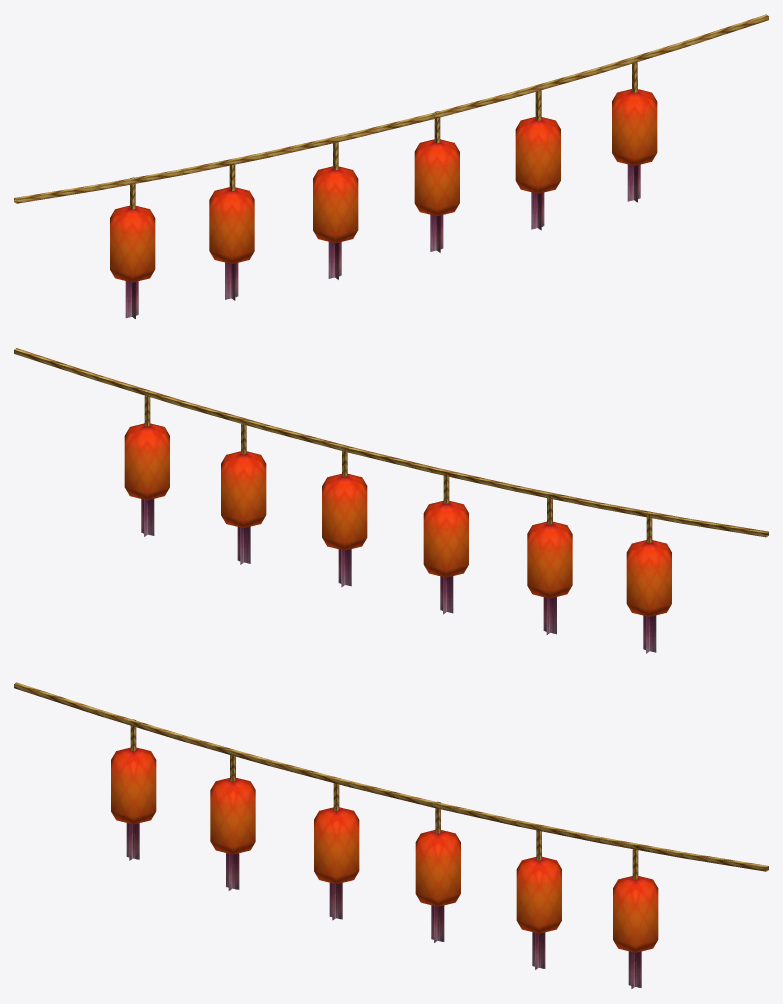
File: szc_object_13ludeng4.FBX
3 views of the same model, one above another, from view 1: azimuth 30°, elevation 25°; view 2: azimuth 150°, elevation 25°; view 3: azimuth 330°, elevation 25° (orthographic).
Visible parts, largest first — view 1: szc_object_13ludeng4; view 2: szc_object_13ludeng4; view 3: szc_object_13ludeng4.
Boxes of the visible parts, x1=… form: szc_object_13ludeng4: x1=14, y1=14, x2=768, y2=318; szc_object_13ludeng4: x1=14, y1=348, x2=768, y2=653; szc_object_13ludeng4: x1=14, y1=682, x2=768, y2=988.
Bounding box in the file's own units: 77.36 × 15.44 × 4.03.
